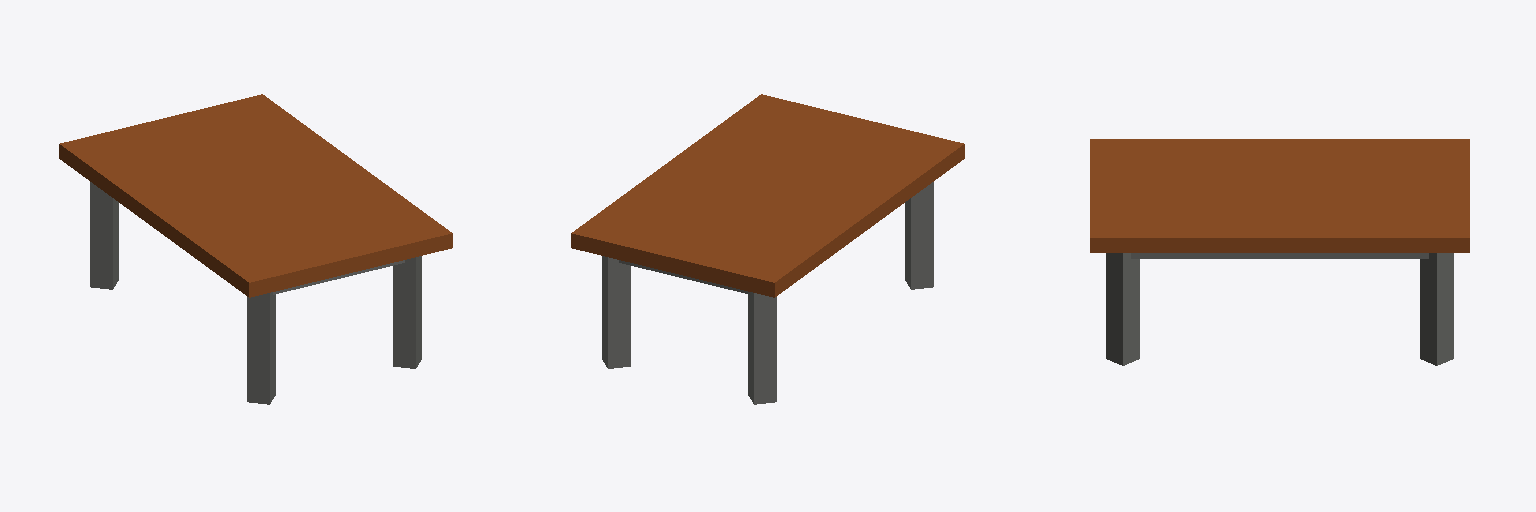
File: Basic_Table.obj
3 views of the same model, side by side, from view 1: azimuth 30°, elevation 25°; view 2: azimuth 150°, elevation 25°; view 3: azimuth 270°, elevation 25° (orthographic).
Parts seen in each view (by area): view 1: Mesh1 Model; view 2: Mesh1 Model; view 3: Mesh1 Model.
Part boxes in pixels (x1,y1,x2,y2): Mesh1 Model: (59, 94, 452, 404); Mesh1 Model: (571, 94, 964, 404); Mesh1 Model: (1090, 139, 1469, 365).
Bounding box in the file's own units: 1.42 × 0.9 × 2.3.